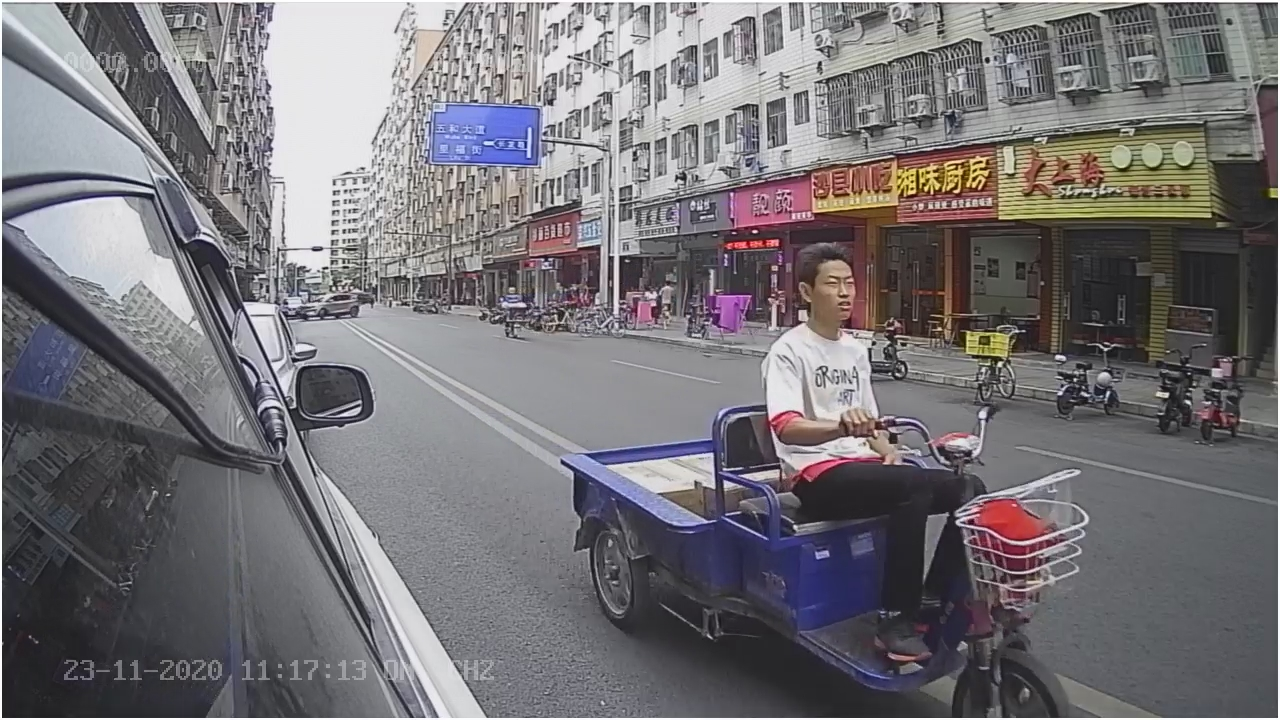person: (754, 238, 886, 404)
